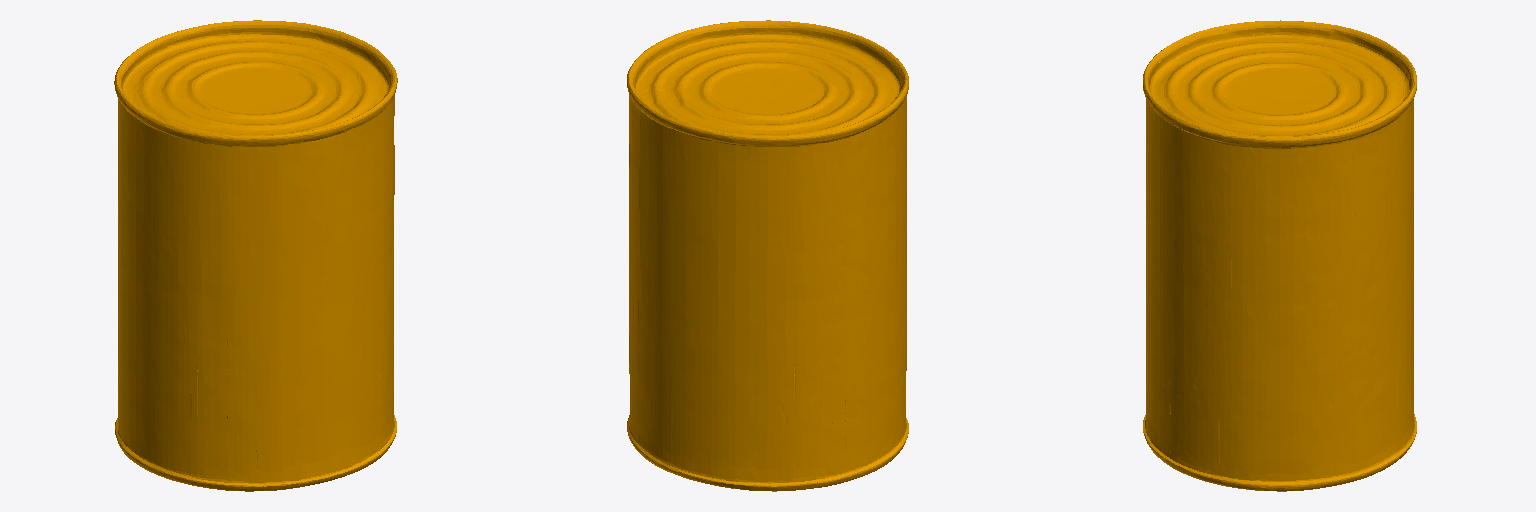
robot.urdf — sample:
<?xml version="1.0" ?>
<robot name="sample">
   <link name="sample">
      <visual>
         <origin xyz="0 0 0" rpy="1.5708 0.0 0.0"/>
         <geometry>
            <mesh filename="mesh/sample.obj" scale="1.0 1.0 1.0"/>
         </geometry>
      </visual>
      <collision>
         <origin xyz="0 0 0" rpy="1.5708 0.0 0.0"/>
         <geometry>
            <mesh filename="mesh/sample_collision.obj" scale="1.0 1.0 1.0"/>
         </geometry>
         <gazebo>
            <mu1>0.60</mu1>
            <mu2>0.50</mu2>
         </gazebo>
      </collision>
      <inertial>
         <mass value="0.5000"/>
         <origin xyz="0 0 0"/>
         <inertia ixx="1.0" ixy="0.0" ixz="0.0" iyy="1.0" iyz="0.0" izz="1.0"/>
      </inertial>
      <extra_info>
         <scale>0.135000</scale>
         <version>v0.1.7</version>
         <category>canned food</category>
         <description>red cylindrical can with beans label</description>
         <min_height>0.12</min_height>
         <max_height>0.15</max_height>
         <real_height>0.135</real_height>
         <min_mass>0.4</min_mass>
         <max_mass>0.6</max_mass>
         <color>red</color>
         <rgba>[0.8, 0.0, 0.0, 1.0]</rgba>
         <generate_time>20260615171222</generate_time>
         <gs_model>mesh/sample_gs.ply</gs_model>
      </extra_info>
   </link>
   <custom_data>
      <quality>
         <MeshGeoChecker>YES</MeshGeoChecker>
         <ImageSegChecker>NO, object is not centered and background artifacts remain.</ImageSegChecker>
         <ImageAestheticChecker>4.546755909919739</ImageAestheticChecker>
         <overall>NO</overall>
      </quality>
   </custom_data>
</robot>

--- What the picture shows (computed from the rendered views, not written in the file) ---
3 views of the same robot in one strip: view 1: azimuth 30°, elevation 25°; view 2: azimuth 150°, elevation 25°; view 3: azimuth 270°, elevation 25° (orthographic).
Robot: sample — 1 links, 0 joints (none); root link sample; default pose: all joints at 0.
Links seen in each view (by area): view 1: sample; view 2: sample; view 3: sample.
Link boxes in pixels (<box>): sample: <box>114,20,397,491</box>; sample: <box>627,20,908,491</box>; sample: <box>1143,20,1416,491</box>.
Bounding box of the posed robot: 0.0973 × 0.0948 × 0.135 m (x, y, z).
1 mesh visuals loaded from 1 distinct referenced files (1 OBJ).
